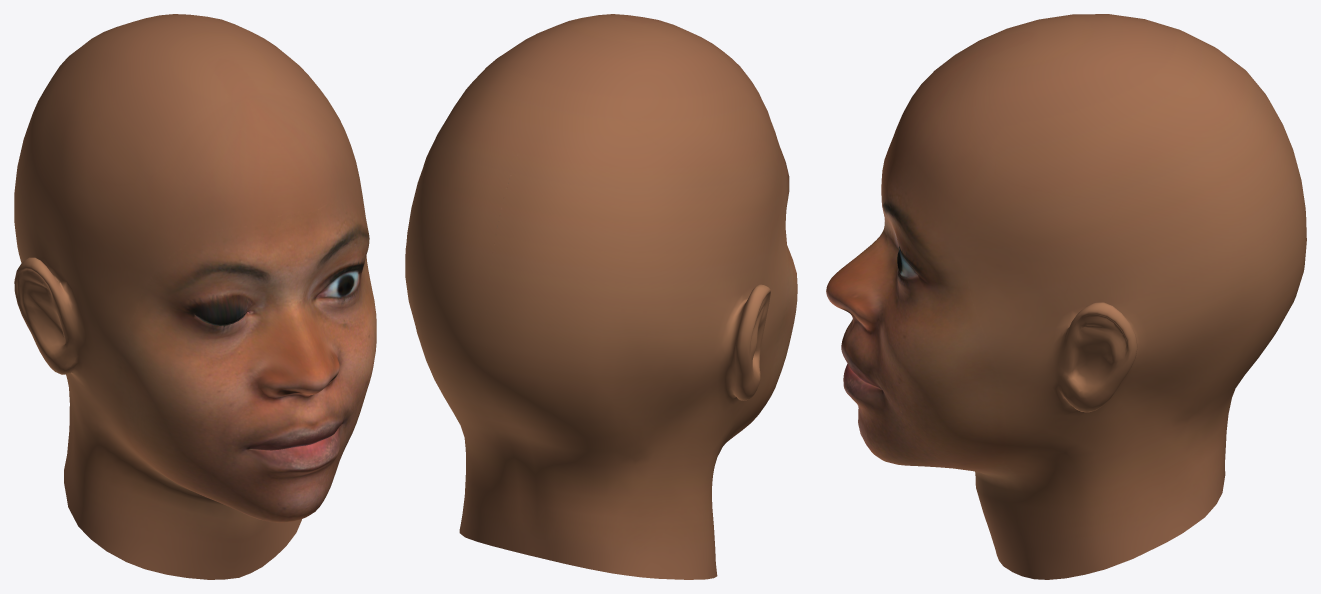
File: v332_obj_ModifierBlinkRight.obj
3 views of the same model, side by side, from view 1: azimuth 30°, elevation 25°; view 2: azimuth 150°, elevation 25°; view 3: azimuth 270°, elevation 25° (orthographic). The views are drawn at different scales.
Parts seen in each view (by area): view 1: HeadHires; view 2: HeadHires; view 3: HeadHires.
Boxes of the visible parts, bbox=[...] form: HeadHires: bbox=[14, 14, 376, 579]; HeadHires: bbox=[405, 14, 797, 579]; HeadHires: bbox=[826, 14, 1306, 579].
Bounding box in the file's own units: 187 × 282 × 233.
